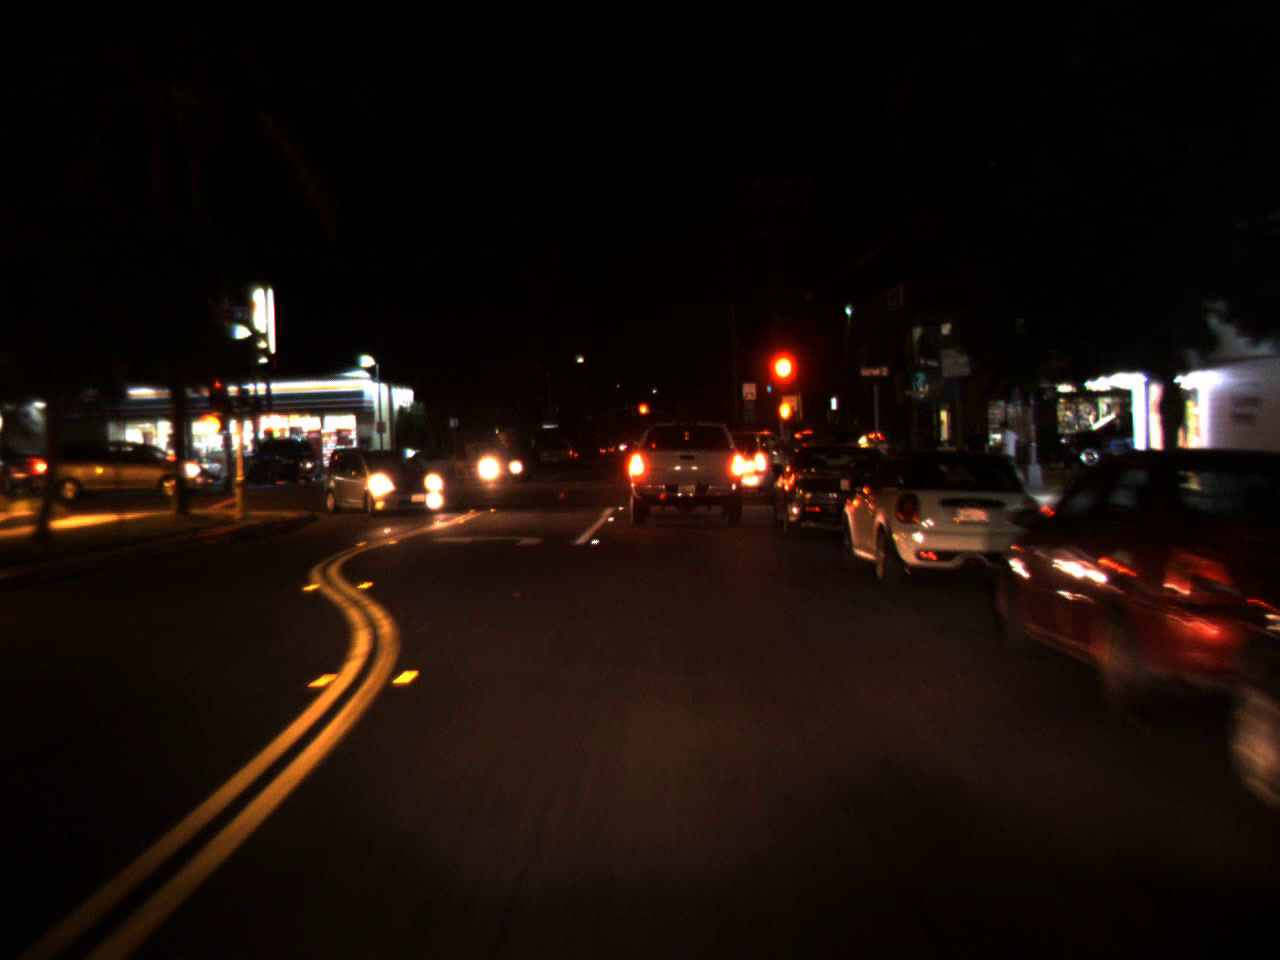stop: (766, 347, 794, 409), (638, 401, 650, 428), (215, 380, 221, 393)
